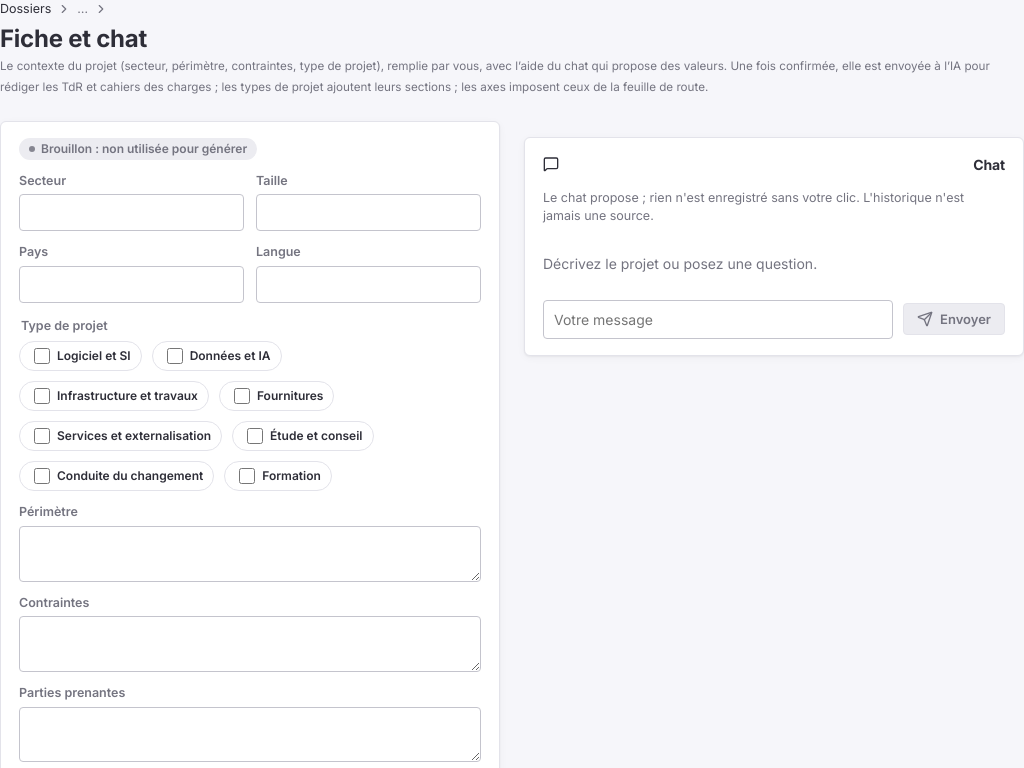
Test: fiche de contexte et chat › le chat propose : rien n'est enregistré avant le clic de l'utilisateur
Later steps or results of the test are not shown.
In the field labelled "Votre message": (718, 319) [543,300,893,338], type "Budget de 40 000 euros"
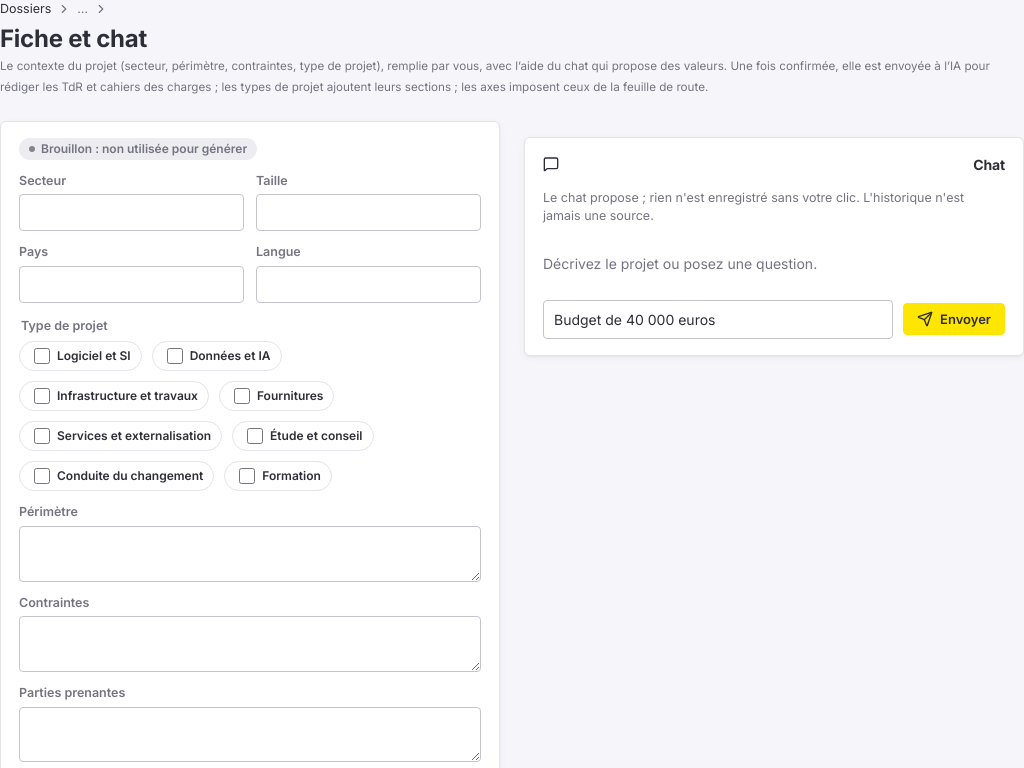
Click the button "Envoyer": (954, 319) [903,303,1005,336]
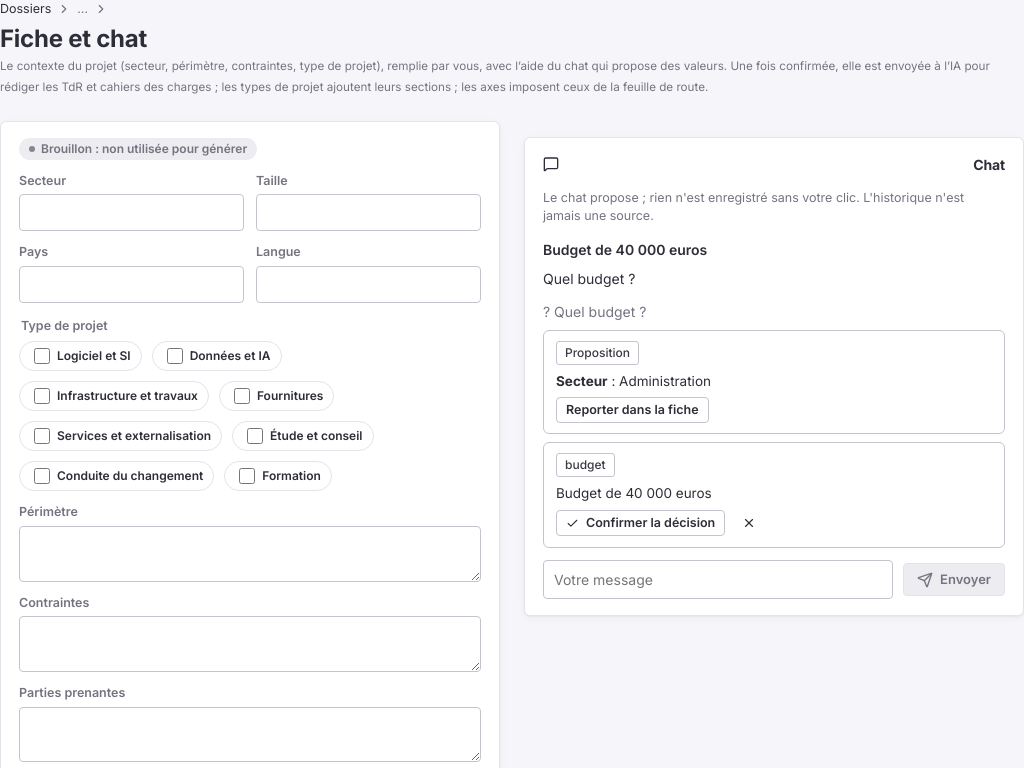
Result: the element with test id "proposal-decision" shows "Budget de 40 000 euros" at [556,485,712,501]
// accepter un champ le reporte dans le formulaire, sans l'enregistrer
Click the button "Reporter dans la fiche": (632, 410) [556,397,709,423]
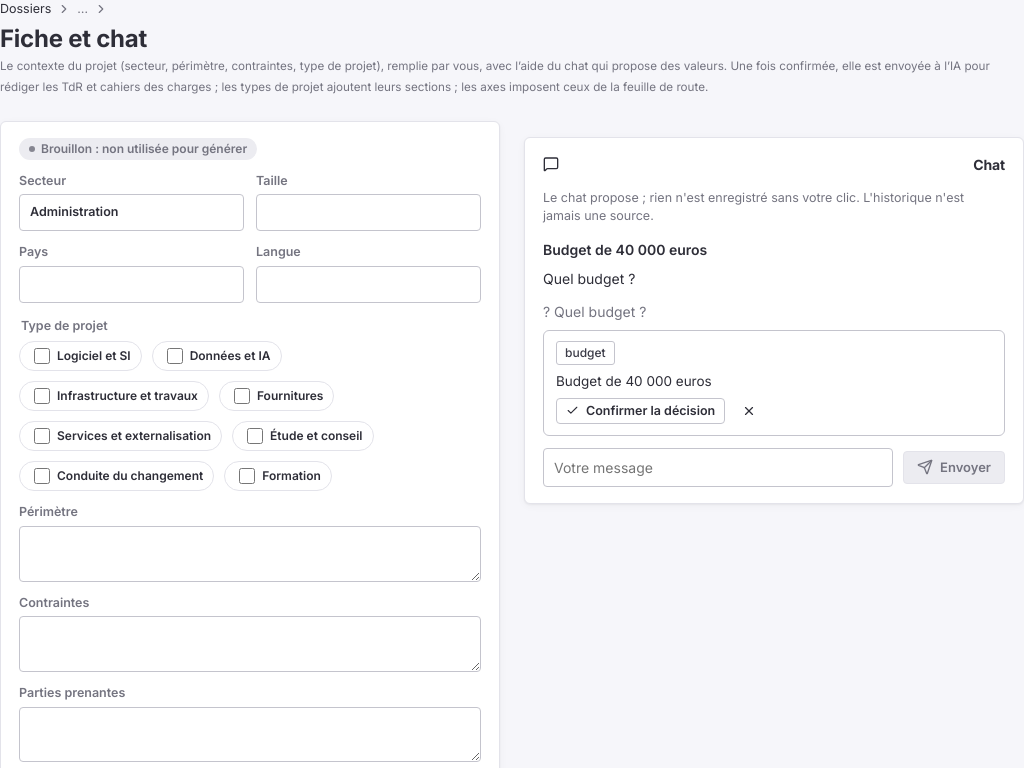
Result: the field labelled "Secteur" holds "Administration" at [19,194,244,231]
